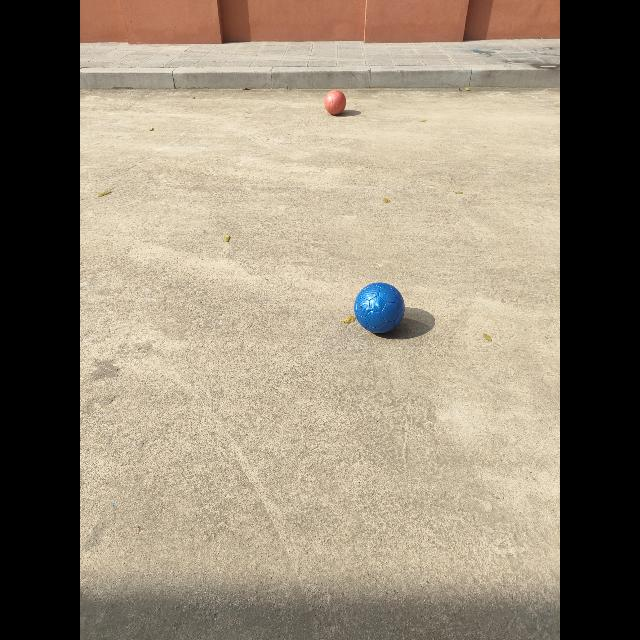B: (355, 282, 405, 334)
R: (324, 90, 346, 115)
